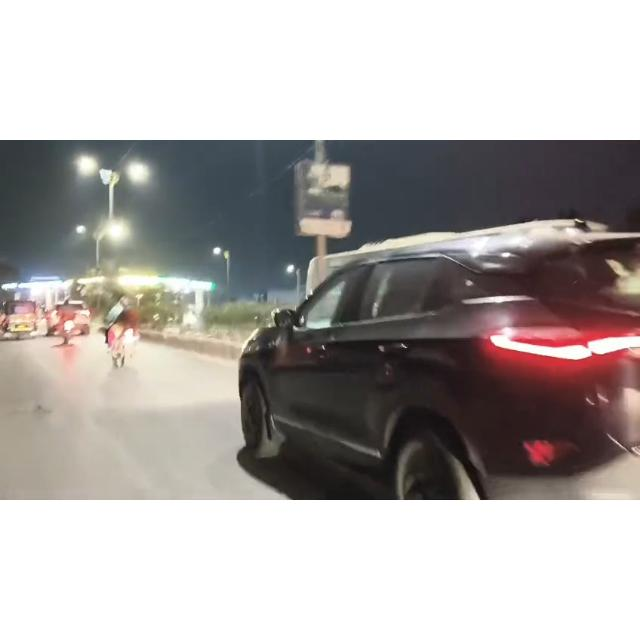auto: (2, 291, 46, 346)
car: (228, 224, 640, 500), (44, 295, 96, 339)
